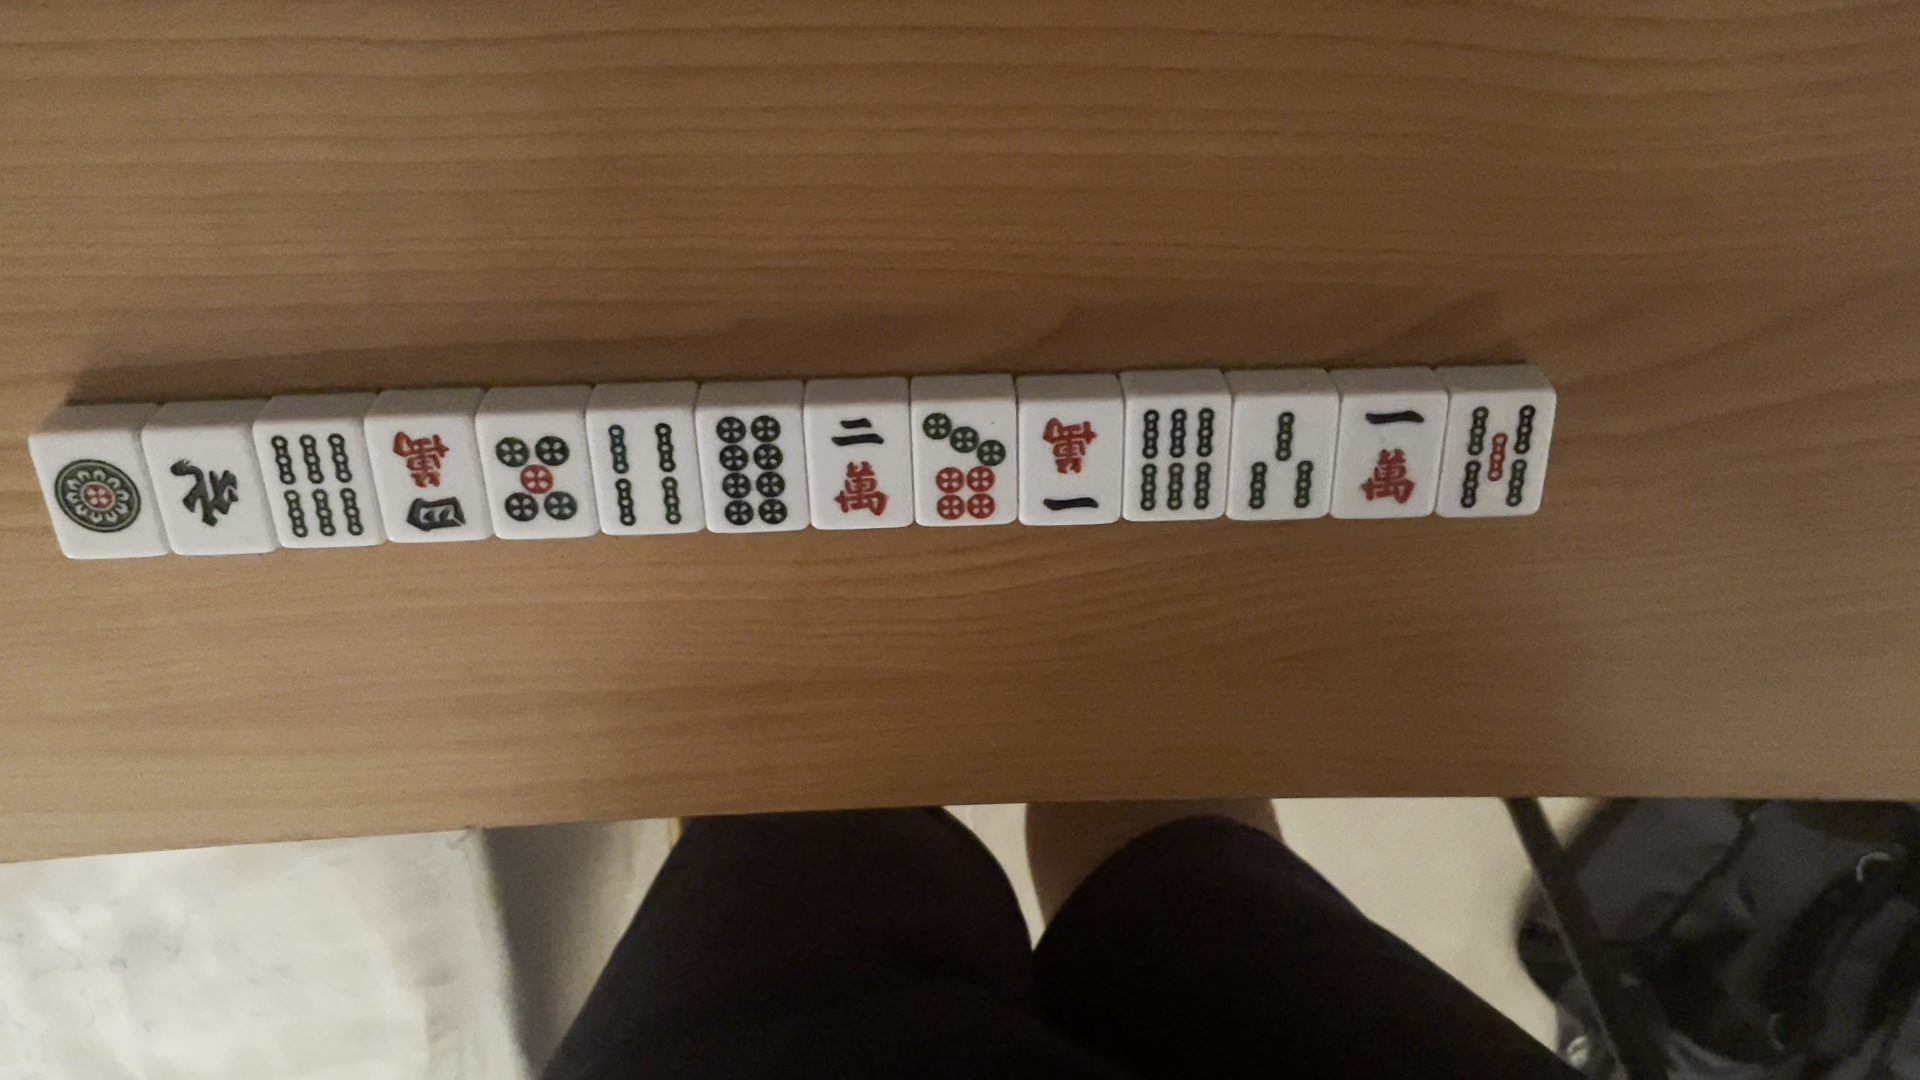b-3: (1238, 402, 1323, 516)
b-4: (603, 417, 688, 527)
b-5: (1451, 398, 1542, 512)
b-6: (266, 431, 365, 546), (1126, 404, 1224, 520)
c-1: (1029, 411, 1109, 517), (1352, 404, 1431, 509)
c-2: (820, 409, 906, 520)
c-4: (382, 425, 471, 538)
d-1: (47, 454, 149, 550)
d-5: (489, 433, 584, 531)
d-7: (916, 406, 1010, 527)
d-8: (712, 406, 793, 533)
honors-north: (165, 450, 249, 546)
